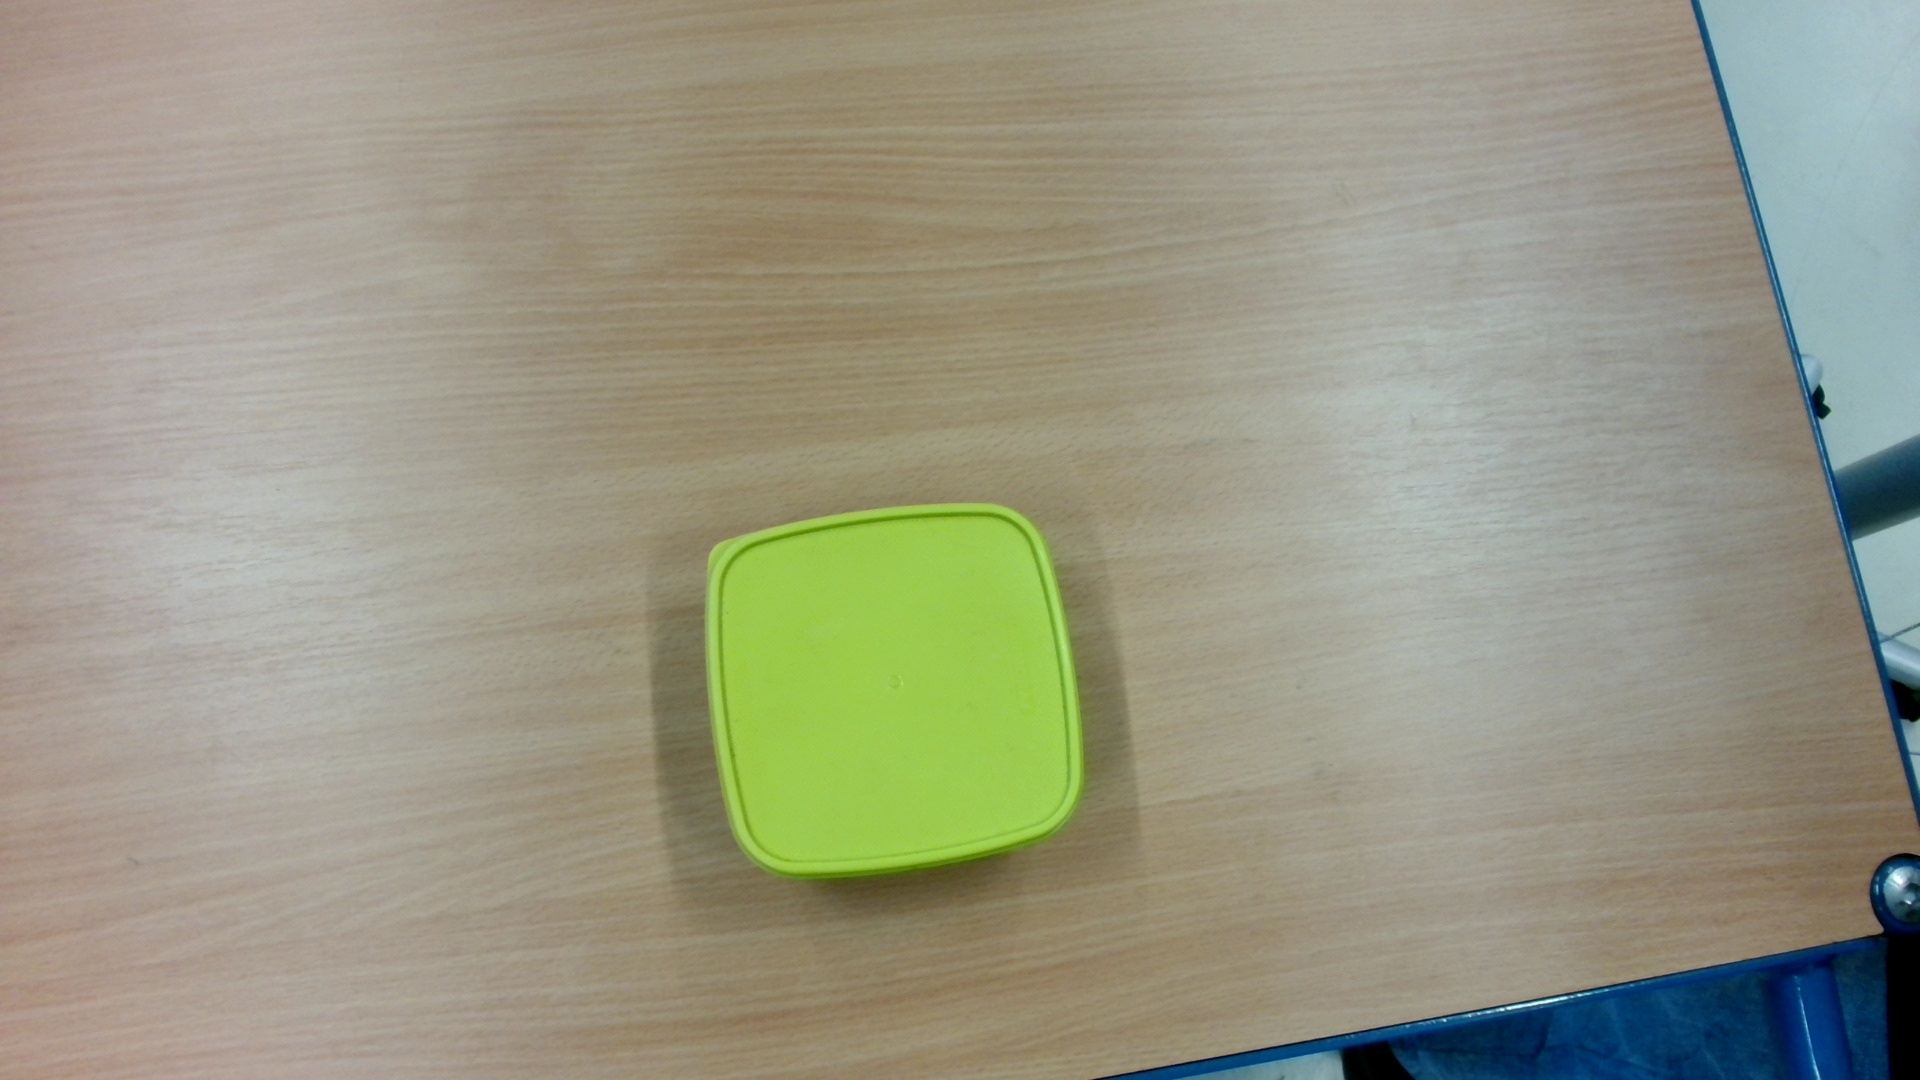Box: (692, 491, 1106, 899)
